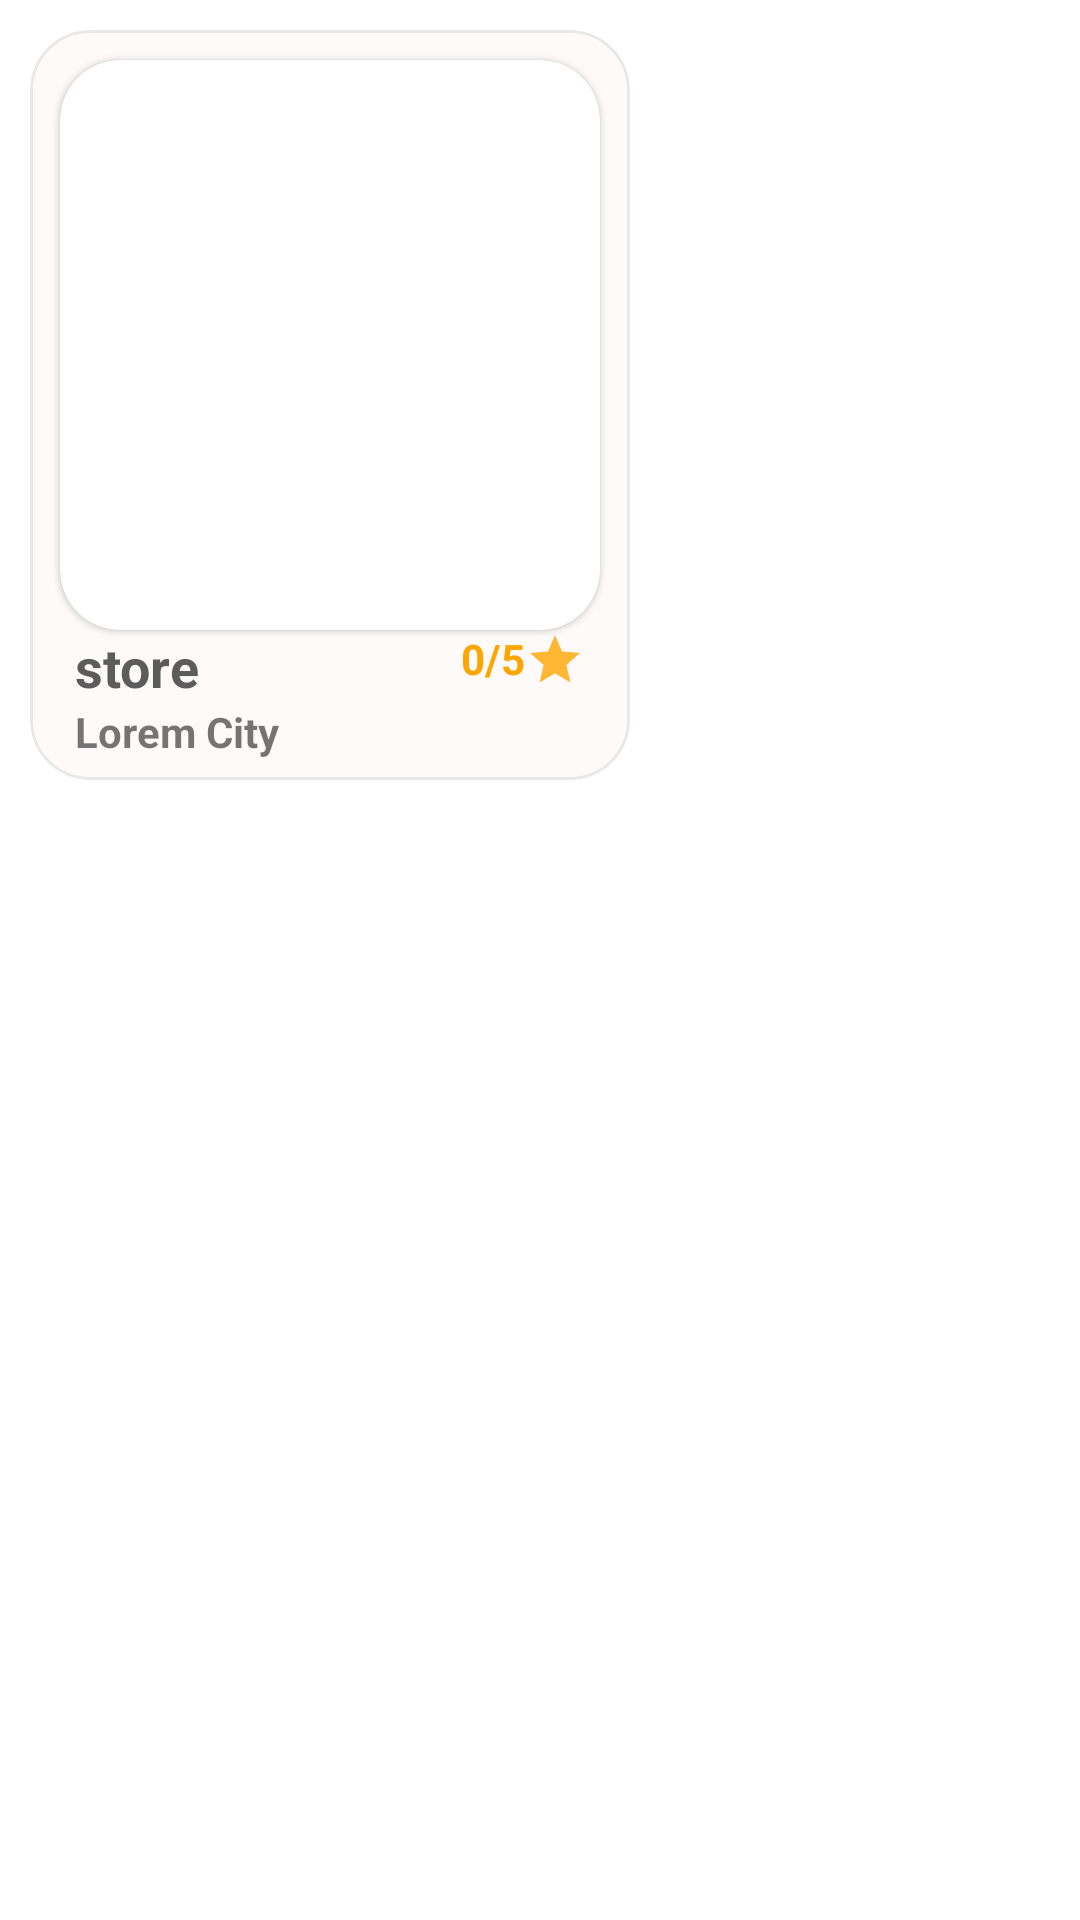

Screen size 1080×1920. Icon name, then its center in pixels as [x,y]:
star: [555,659]
